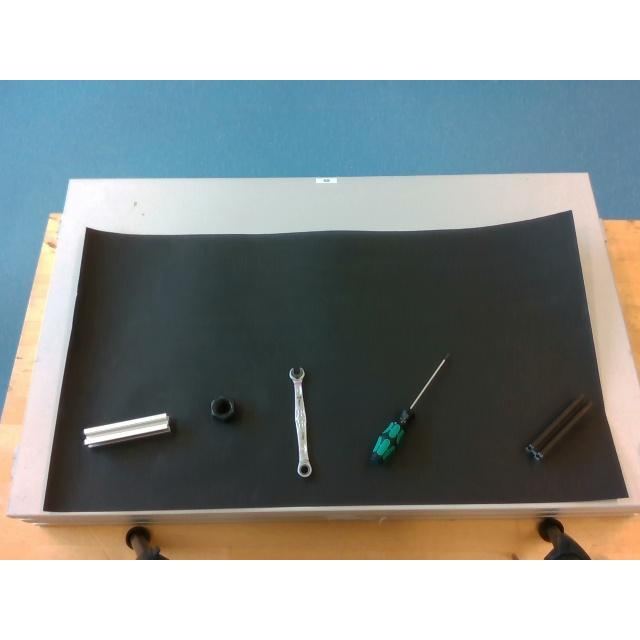F20_20_B: (524, 395, 592, 461)
F20_20_G: (83, 414, 171, 446)
M20: (210, 396, 236, 420)
Screwdriver: (370, 352, 450, 463)
Wrench: (289, 367, 311, 477)
